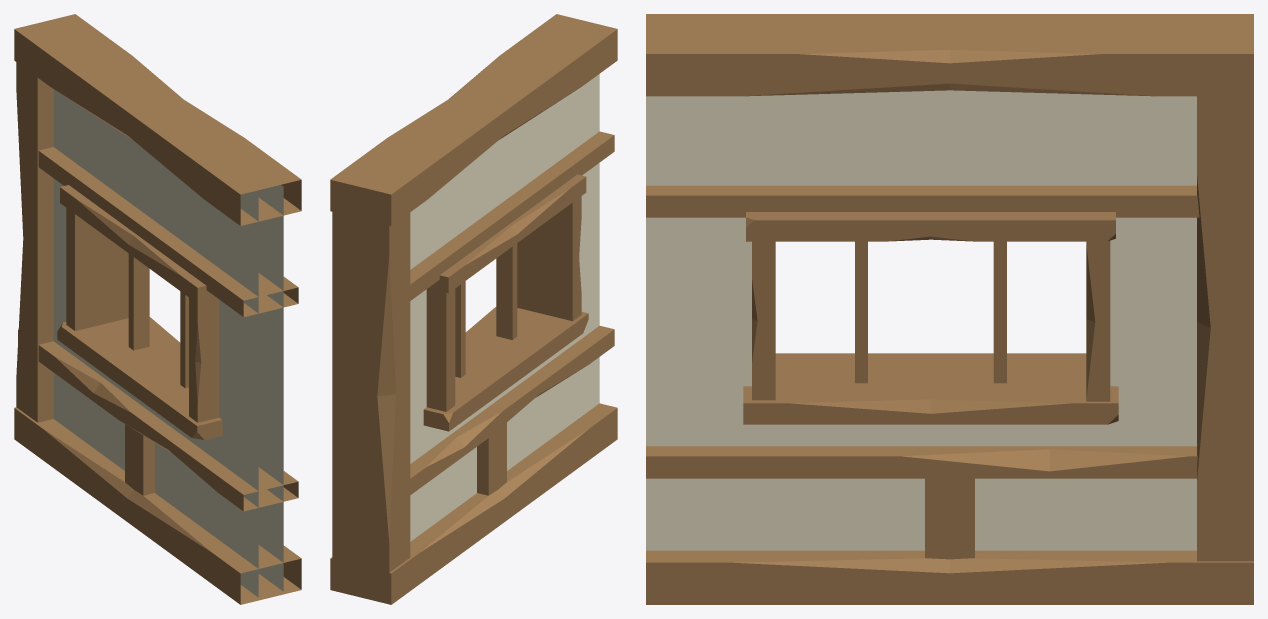
The model's file is SFV_Window4_Wooden_M_001.fbx.
3 renders of one model, left to right at view 1: azimuth 30°, elevation 25°; view 2: azimuth 150°, elevation 25°; view 3: azimuth 270°, elevation 25°, orthographic. The views are drawn at different scales.
Parts seen in each view (by area): view 1: SFV_Window4_Wooden_M_001; view 2: SFV_Window4_Wooden_M_001; view 3: SFV_Window4_Wooden_M_001.
Boxes of the visible parts, x1,y1,x2,y2 form: SFV_Window4_Wooden_M_001: (14,14,301,604); SFV_Window4_Wooden_M_001: (330,14,617,604); SFV_Window4_Wooden_M_001: (646,14,1253,604).
Size of the model in its own units: 59.59 by 300 by 300.
